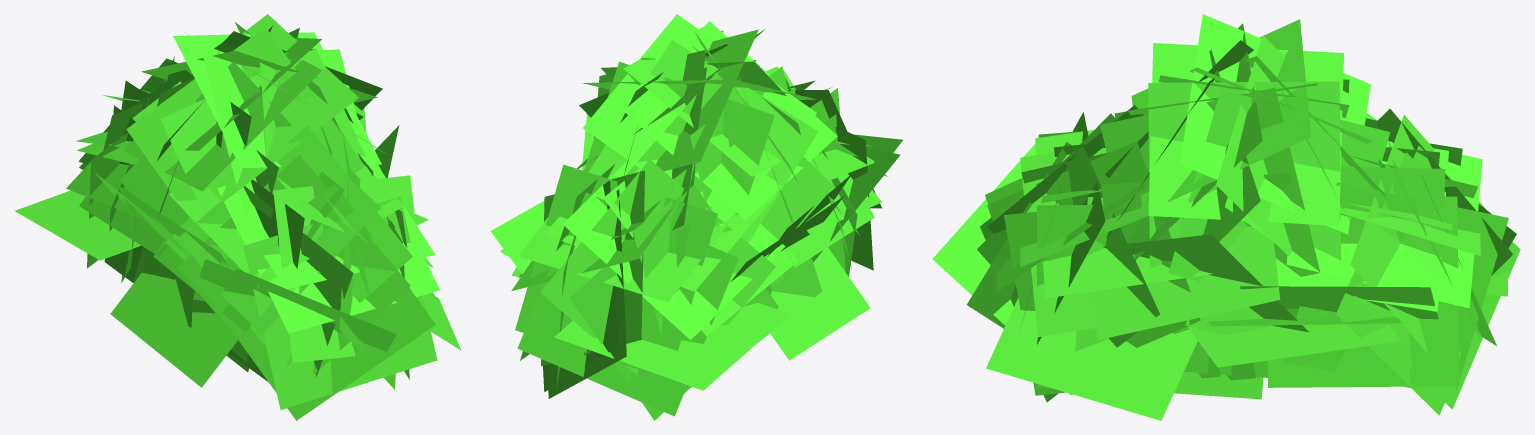
The model's file is Bush02.fbx.
3 views of the same model, side by side, from view 1: azimuth 30°, elevation 25°; view 2: azimuth 150°, elevation 25°; view 3: azimuth 270°, elevation 25° (orthographic). The views are drawn at different scales.
Visible parts, largest first — view 1: Bush02 LOD0; view 2: Bush02 LOD0; view 3: Bush02 LOD0.
Boxes of the visible parts, x1,y1,x2,y2 form: Bush02 LOD0: [15, 14, 461, 420]; Bush02 LOD0: [490, 14, 902, 420]; Bush02 LOD0: [932, 14, 1520, 420].
Size of what is drawn, in the model's own units: 6.15 by 3.97 by 3.81.
